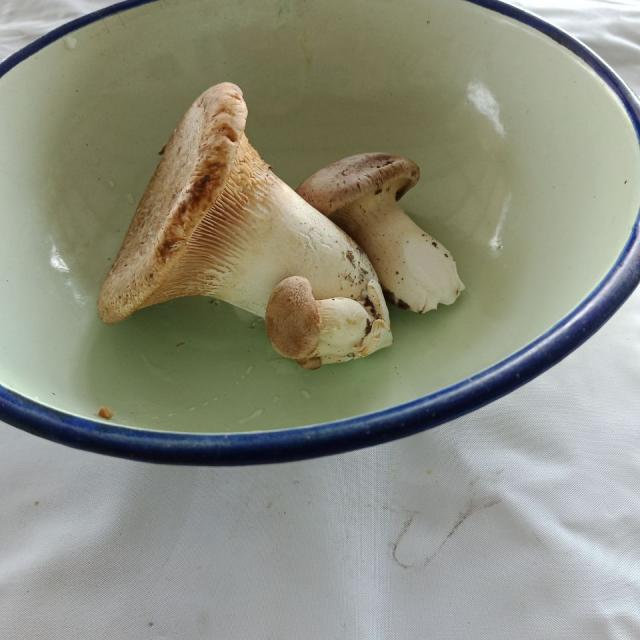Pleurotus cystidiosus: (97, 80, 398, 367), (304, 149, 464, 316)
